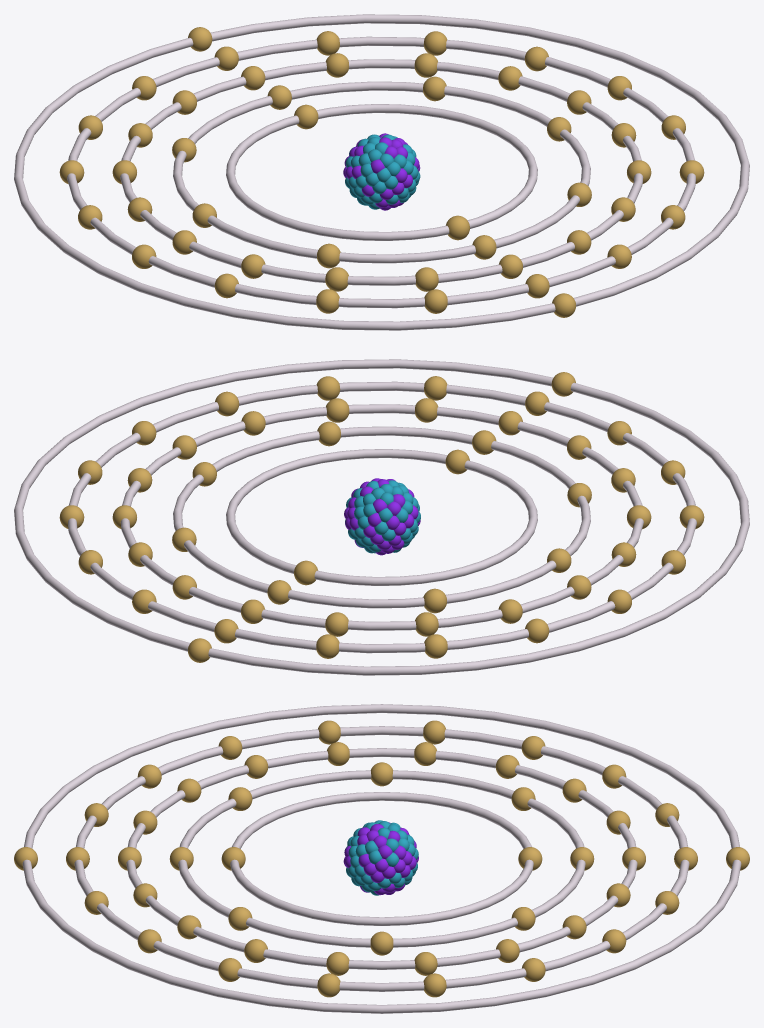
The model's file is cadmio.glb.
3 renders of one model, top to bottom at view 1: azimuth 30°, elevation 25°; view 2: azimuth 150°, elevation 25°; view 3: azimuth 270°, elevation 25°, orthographic. The views are drawn at different scales.
Parts seen in each view (by area): view 1: Orbita_5, Orbita_4, Orbita_3, Orbita_2, Orbita_1, Nucleo_Completo; view 2: Orbita_5, Orbita_4, Orbita_3, Orbita_2, Orbita_1, Nucleo_Completo; view 3: Orbita_5, Orbita_4, Orbita_3, Orbita_2, Orbita_1, Nucleo_Completo.
Boxes of the visible parts, bbox=[...] form: Orbita_5: bbox=[14, 14, 749, 330]; Orbita_4: bbox=[67, 36, 695, 308]; Orbita_3: bbox=[120, 59, 643, 285]; Orbita_2: bbox=[173, 81, 590, 263]; Orbita_1: bbox=[226, 104, 537, 240]; Nucleo_Completo: bbox=[343, 133, 420, 210]; Orbita_5: bbox=[14, 359, 749, 675]; Orbita_4: bbox=[68, 381, 696, 653]; Orbita_3: bbox=[120, 404, 643, 630]; Orbita_2: bbox=[173, 426, 590, 608]; Orbita_1: bbox=[226, 449, 537, 585]; Nucleo_Completo: bbox=[344, 478, 420, 555]; Orbita_5: bbox=[22, 704, 741, 1013]; Orbita_4: bbox=[74, 726, 689, 991]; Orbita_3: bbox=[126, 748, 637, 969]; Orbita_2: bbox=[178, 770, 585, 947]; Orbita_1: bbox=[230, 792, 533, 925]; Nucleo_Completo: bbox=[343, 820, 418, 895].
Size of the model in its own units: 4.86 by 0.5084 by 4.96.
